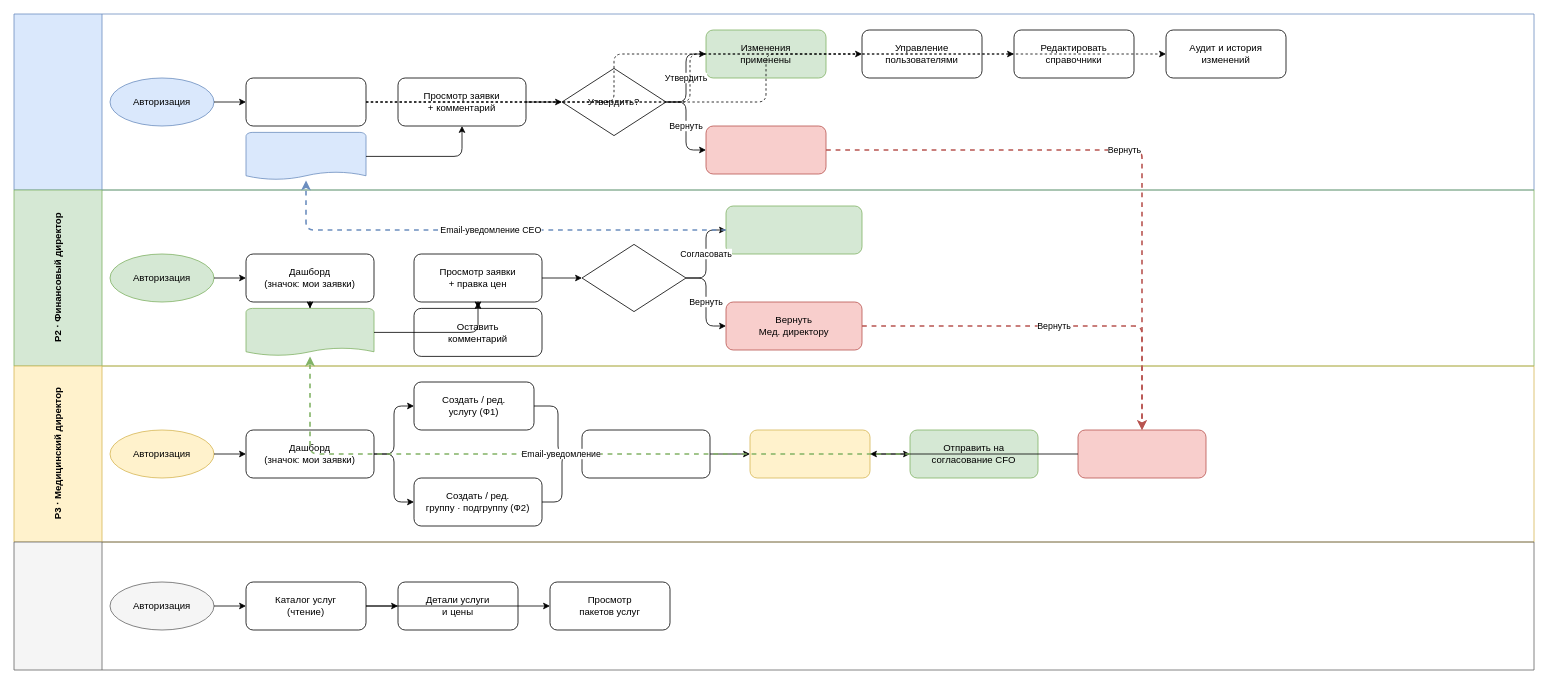
Image size: 1548x692. Some labels were removed from this diagram. The shapes that lost their labels are listed below. From the top down, each one's box as (x1, y1, x2, y2) in pixels, then its label:
(245, 77, 366, 126): Дашборд всех заявок
(13, 13, 1534, 190): Р1 · Генеральный директор
(245, 132, 366, 180): Email: заявка на утверждении
(705, 125, 826, 174): Вернуть на доработку
(725, 205, 862, 254): Отправить на утверждение CEO
(581, 244, 686, 312): Согласовать?
(245, 308, 374, 356): Email: новая заявка от Мед. директора
(581, 429, 710, 478): Создать / ред. пакет услуг (Ф3)
(749, 429, 870, 478): Сформировать заявку (Ф4)
(1077, 429, 1206, 478): Доработка (если вернули)
(13, 541, 1534, 670): Р4 · Персонал (только чтение)
